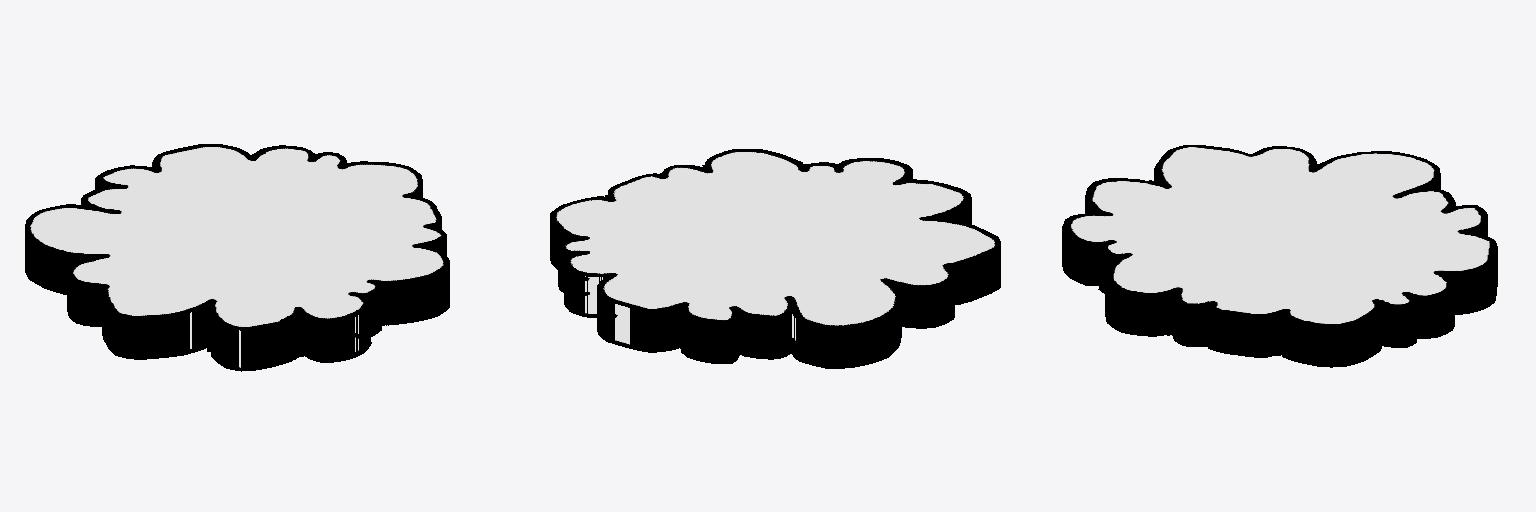
3 renders of one model, left to right at view 1: azimuth 30°, elevation 25°; view 2: azimuth 150°, elevation 25°; view 3: azimuth 270°, elevation 25°, orthographic.
Visible parts, largest first — view 1: cloud; view 2: cloud; view 3: cloud.
Part boxes in pixels (x1,y1,x2,y2): cloud: (25, 144, 449, 371); cloud: (550, 149, 1000, 368); cloud: (1062, 145, 1497, 367).
Size of the model in its own units: 10 by 1.05 by 10.1.
1 materials, 1 textured.